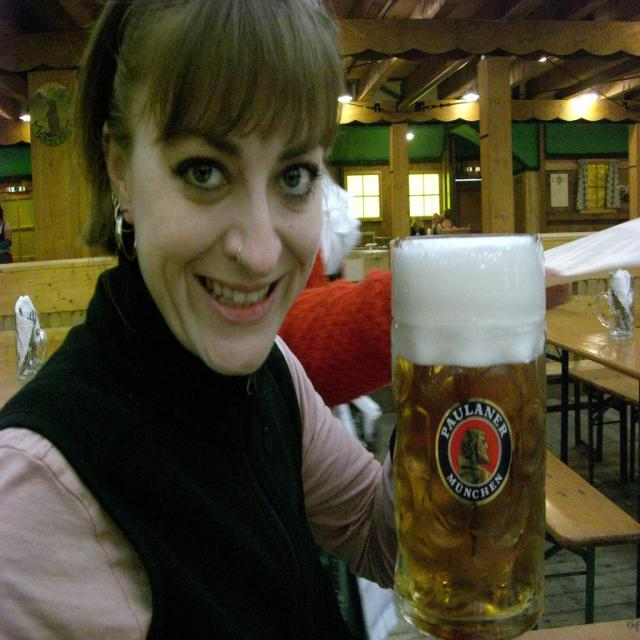paulaner: (437, 401, 514, 505)
